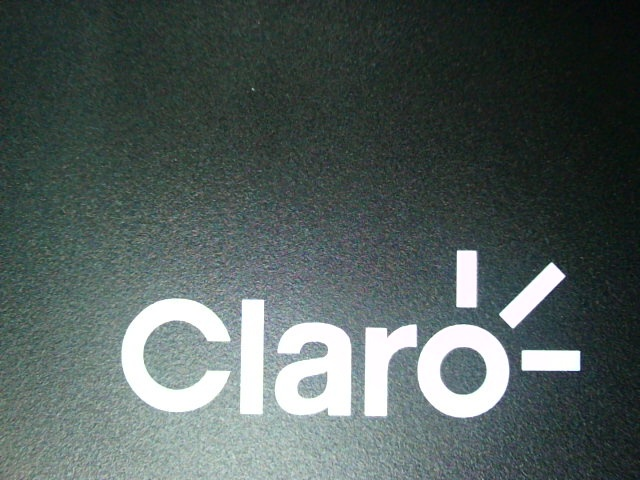BC_Claor: (99, 246, 585, 420)
